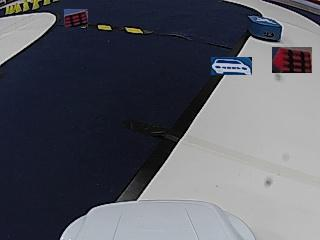prop: (248, 15, 281, 42)
